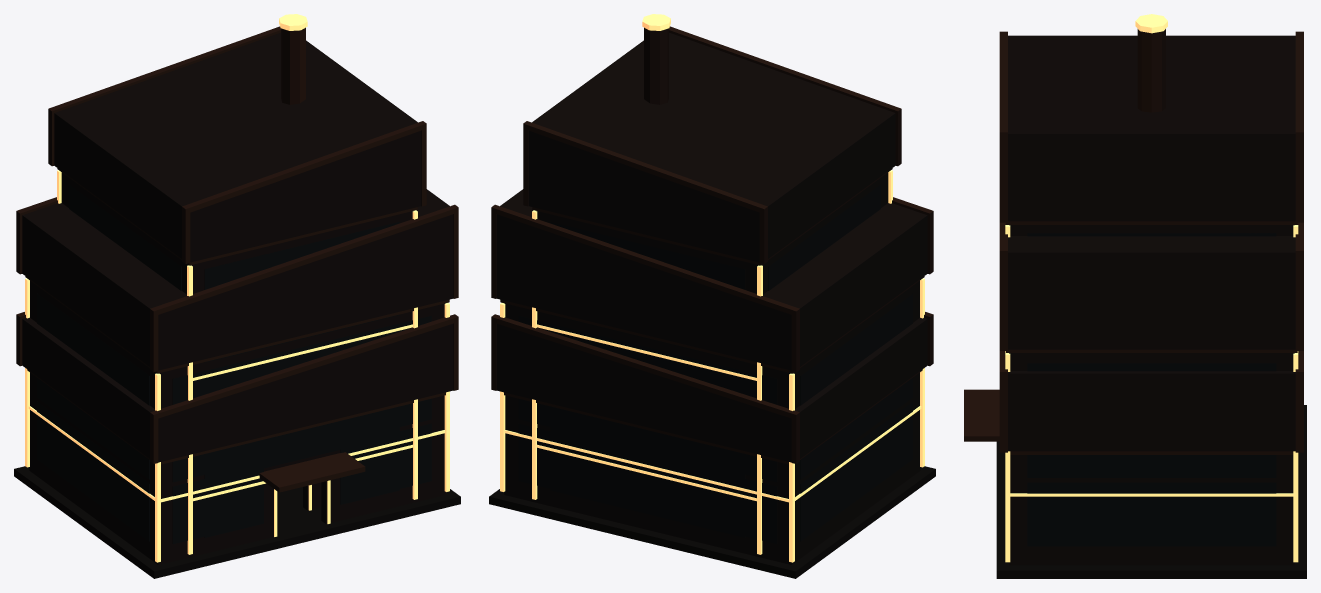
File: shaddai_realm_town_volcano_v01.glb
The picture shows the model from 3 angles, left to right: view 1: azimuth 30°, elevation 25°; view 2: azimuth 150°, elevation 25°; view 3: azimuth 270°, elevation 25°; orthographic projection. The views are drawn at different scales.
Parts seen in each view (by area): view 1: shaddai_bld_volcano_apartments, shaddai_bld_volcano_inn, shaddai_bld_volcano_workshop, shaddai_bld_volcano_home; view 2: shaddai_bld_volcano_inn, shaddai_bld_volcano_apartments, shaddai_bld_volcano_workshop; view 3: shaddai_bld_volcano_inn, shaddai_bld_volcano_apartments, shaddai_bld_volcano_workshop.
Boxes of the visible parts, <box> form: shaddai_bld_volcano_apartments: <box>48,14,428,569</box>; shaddai_bld_volcano_inn: <box>14,189,460,578</box>; shaddai_bld_volcano_workshop: <box>16,312,458,564</box>; shaddai_bld_volcano_home: <box>259,463,321,510</box>; shaddai_bld_volcano_inn: <box>489,189,935,578</box>; shaddai_bld_volcano_apartments: <box>521,14,901,568</box>; shaddai_bld_volcano_workshop: <box>491,312,933,564</box>; shaddai_bld_volcano_inn: <box>996,222,1306,578</box>; shaddai_bld_volcano_apartments: <box>964,14,1306,525</box>; shaddai_bld_volcano_workshop: <box>999,351,1303,565</box>.
Bounding box in the file's own units: 19.2 × 27.32 × 16.8.
